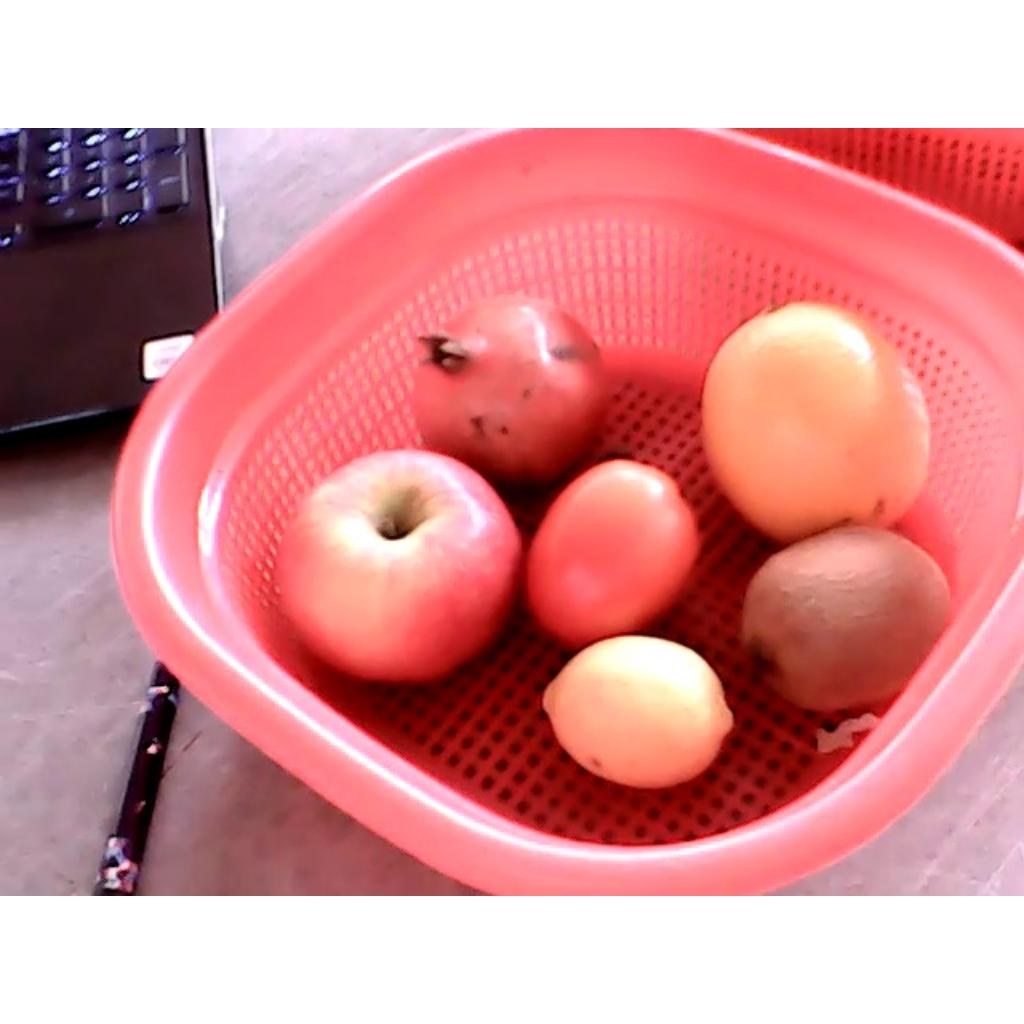apple: (274, 447, 522, 682)
kiwi: (744, 523, 955, 712)
lemon: (542, 636, 733, 789)
orange: (699, 298, 929, 543)
pomegranate: (414, 296, 607, 483)
tomato: (522, 458, 699, 646)
